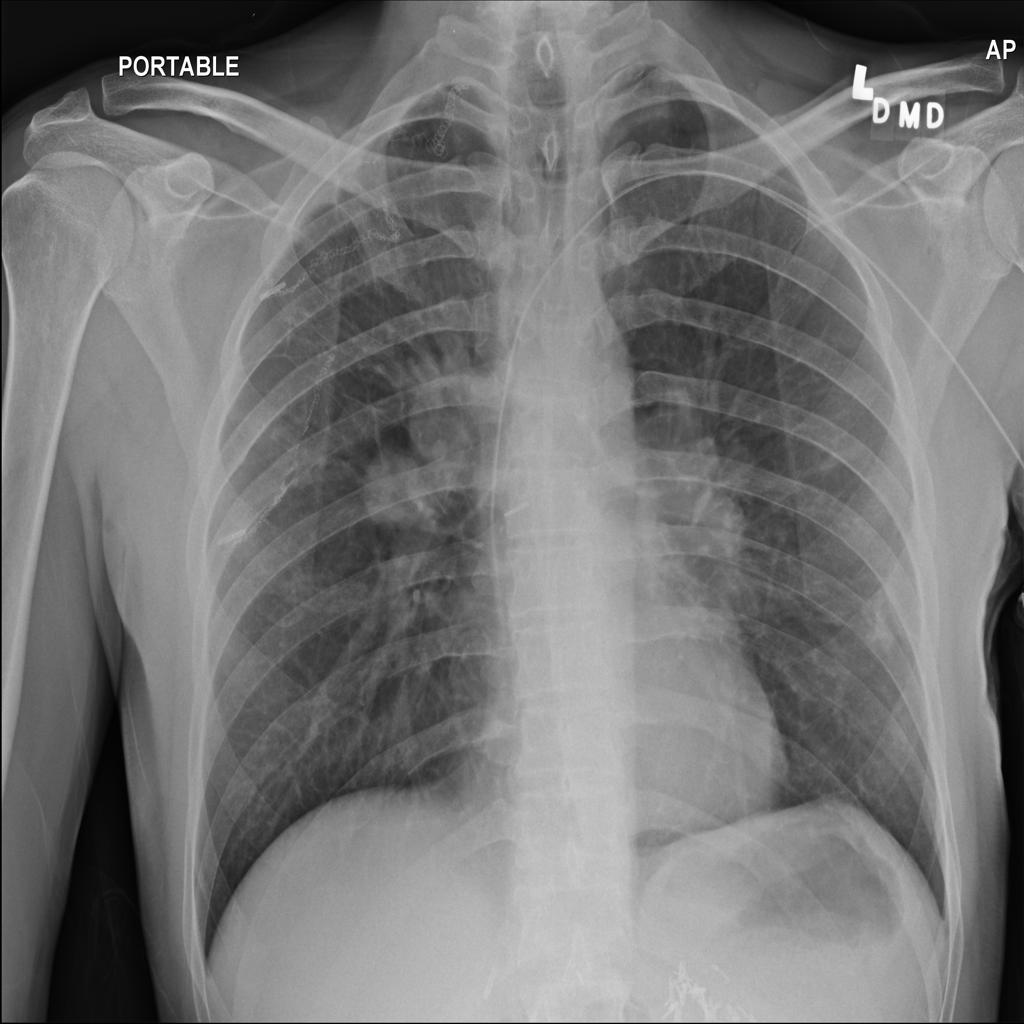nodule: (347, 425, 459, 546), (679, 482, 750, 567)
